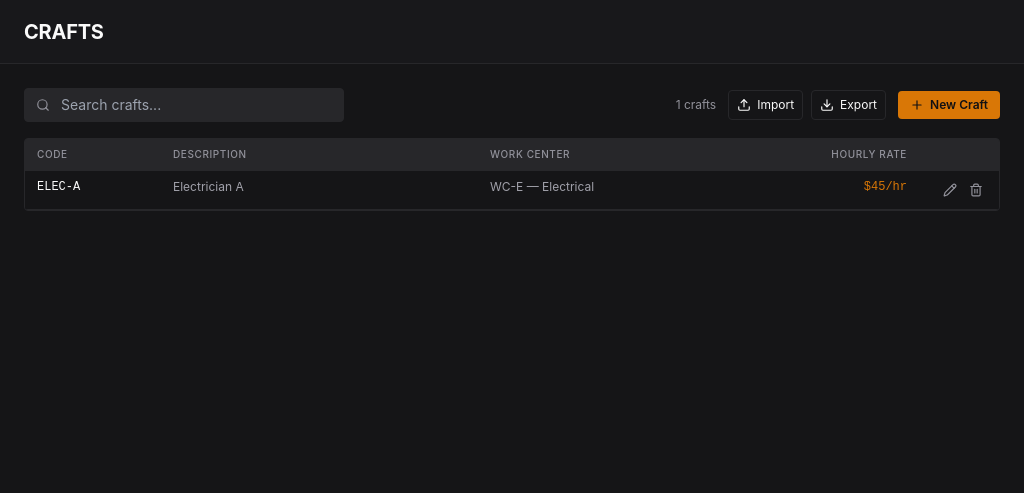
CraftsPage craft CRUD (tracker v1.1-15) › edits a craft, prefilling from the row
Click the button named "edit elec-a".
click(950, 190)  # box [939,179,961,201]
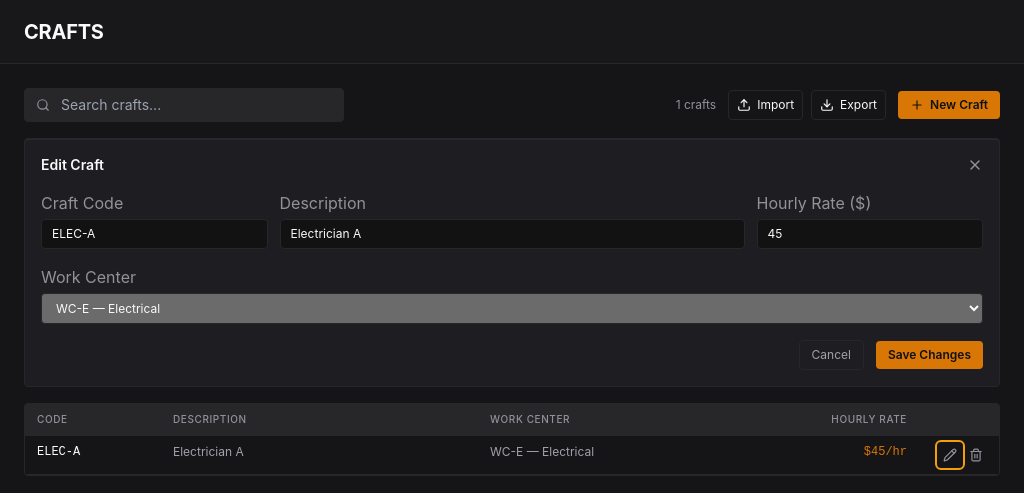
Now the field labelled "Craft Code" holds "ELEC-A", box [41,219,268,249]
Now the field labelled "Description" holds "Electrician A"
Now the dropdown labelled "Work Center" shows "WC-E — Electrical", box [41,293,983,324]
Replace the text in the field labelled "Description" with "Electrician A (senior)" at coordinates (512, 234), box [280,219,744,249]
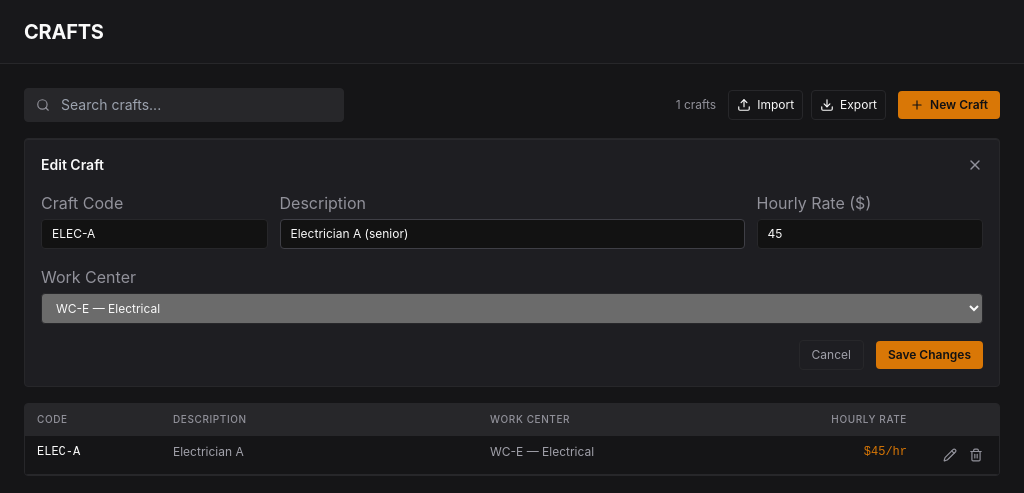
Click the button "Save Changes".
click(929, 355)  # box [876,341,983,369]
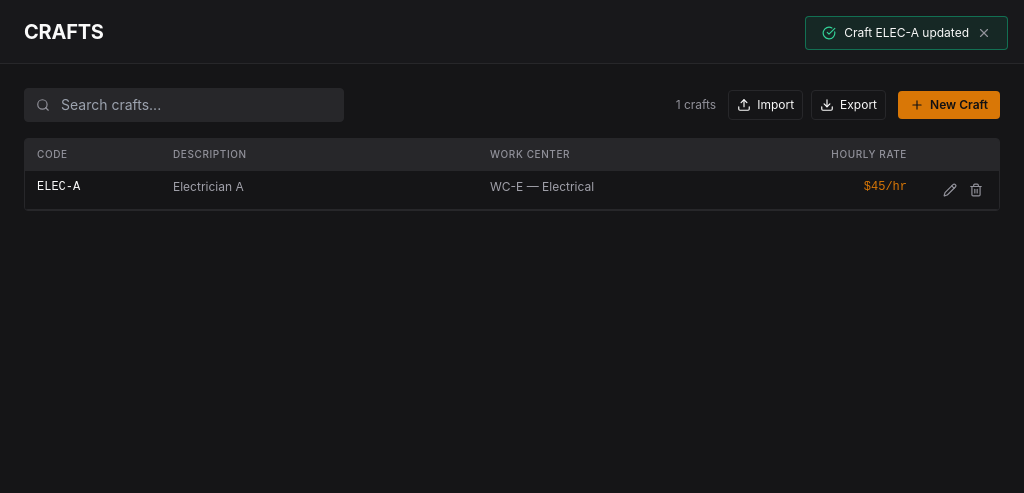
Now the text "Craft ELEC-A updated" is shown, box [844,25,969,41]
